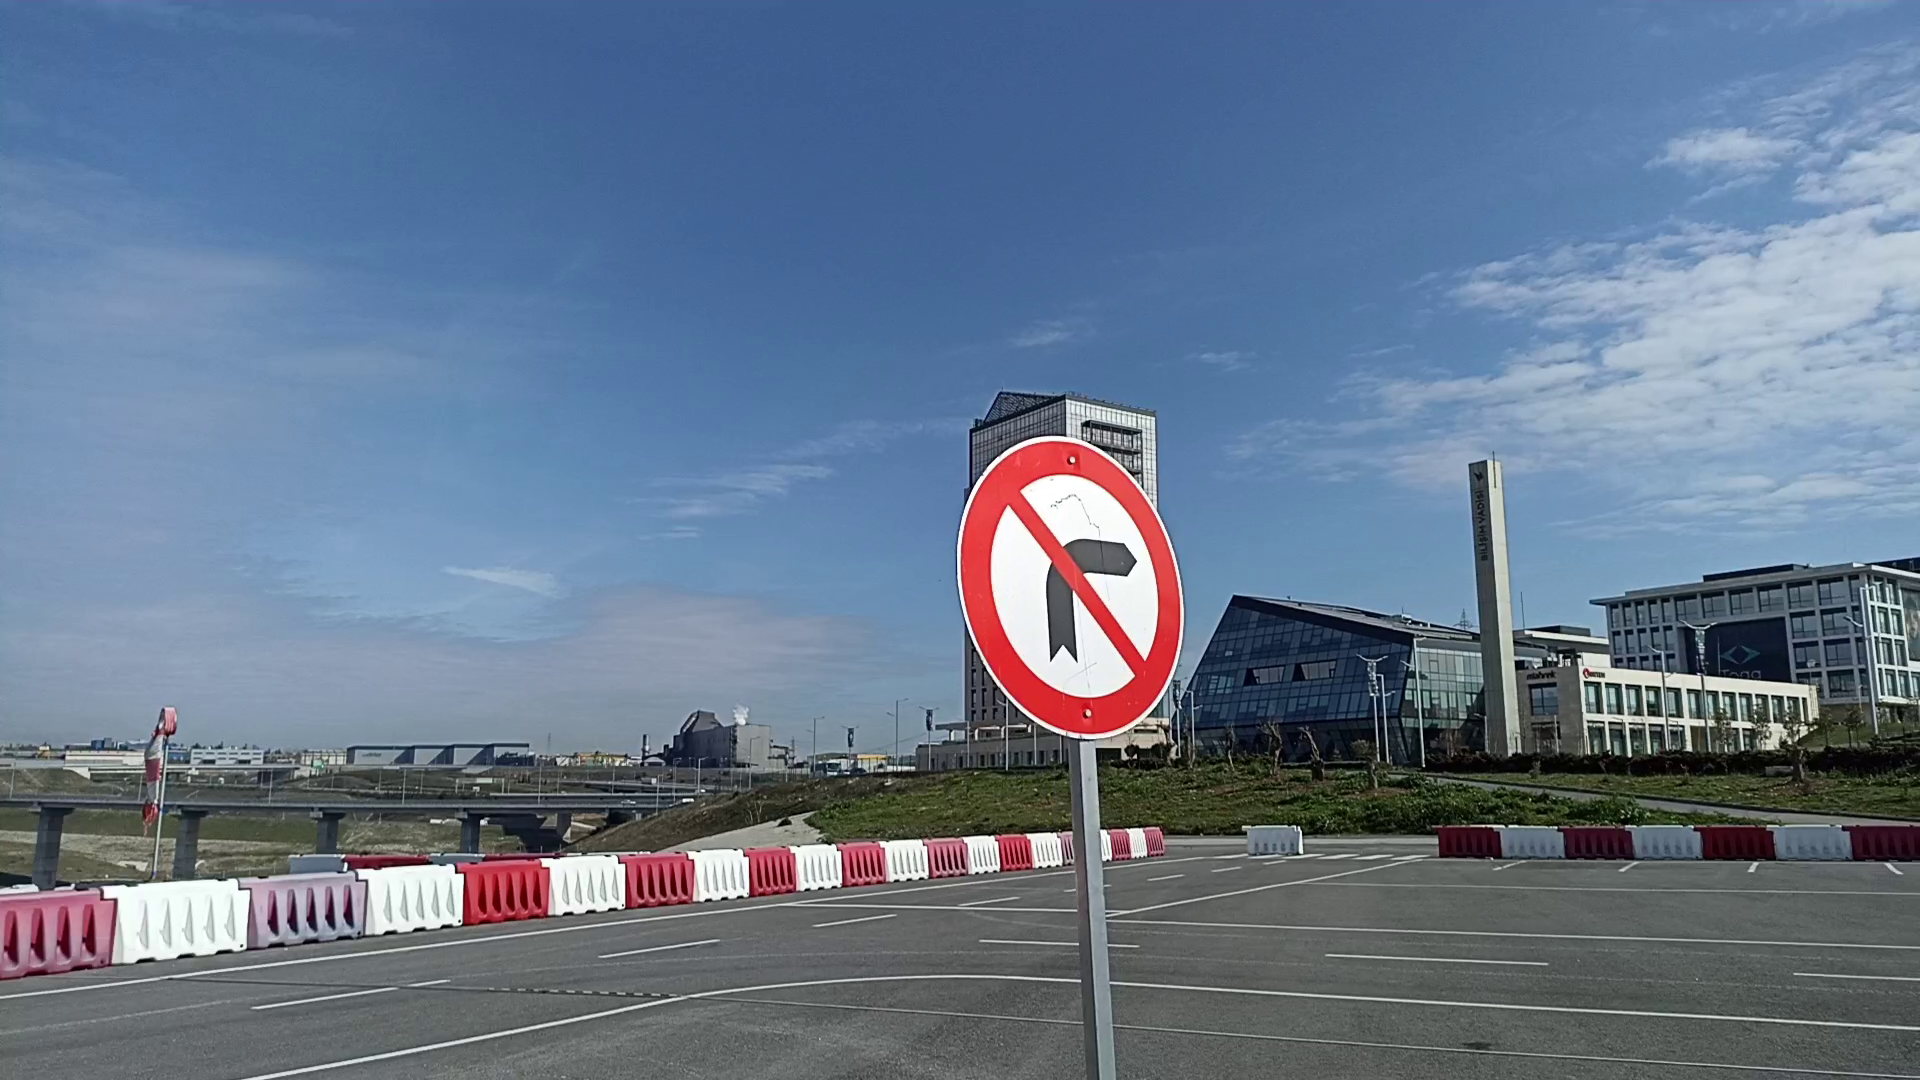noleftturn: (949, 431, 1188, 740)
